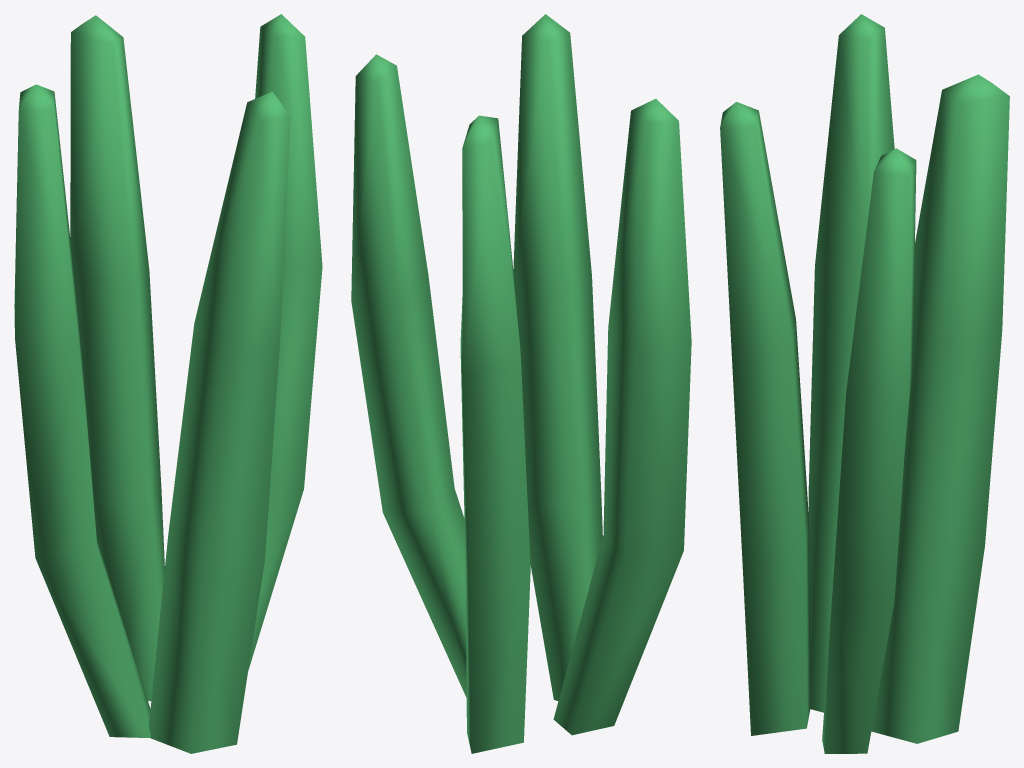
File: Grass_B_01_LOD2.gltf
The picture shows the model from 3 angles, left to right: view 1: azimuth 30°, elevation 25°; view 2: azimuth 150°, elevation 25°; view 3: azimuth 270°, elevation 25°; orthographic projection.
Visible parts, largest first — view 1: Grass_B_01_LOD2_Cube.717; view 2: Grass_B_01_LOD2_Cube.717; view 3: Grass_B_01_LOD2_Cube.717.
Boxes of the visible parts, x1=… form: Grass_B_01_LOD2_Cube.717: x1=14, y1=14, x2=322, y2=753; Grass_B_01_LOD2_Cube.717: x1=351, y1=14, x2=691, y2=753; Grass_B_01_LOD2_Cube.717: x1=720, y1=14, x2=1009, y2=753.
Size of the model in its own units: 2.72 by 5.47 by 2.21.
1 material, 1 textured.
